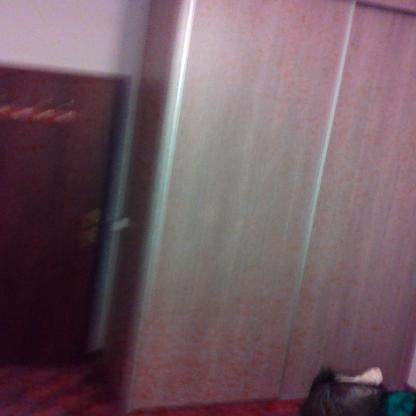door: (0, 70, 117, 358)
lever: (80, 214, 114, 232)
